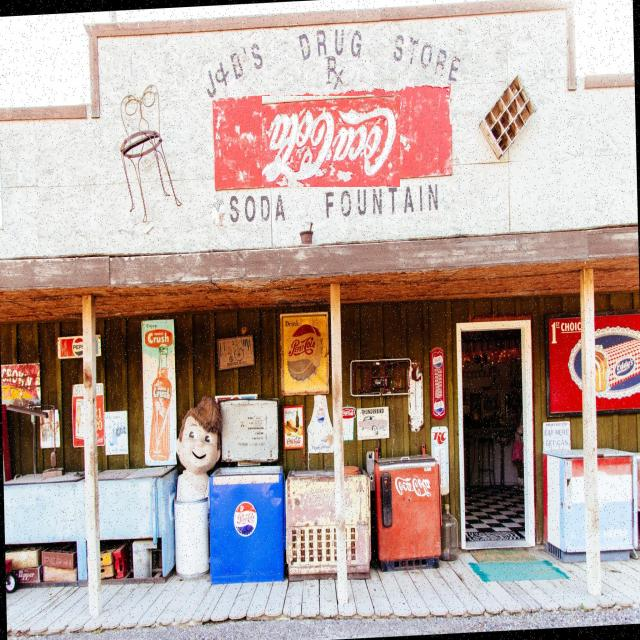coca-cola: (262, 96, 400, 187), (393, 474, 435, 502)
